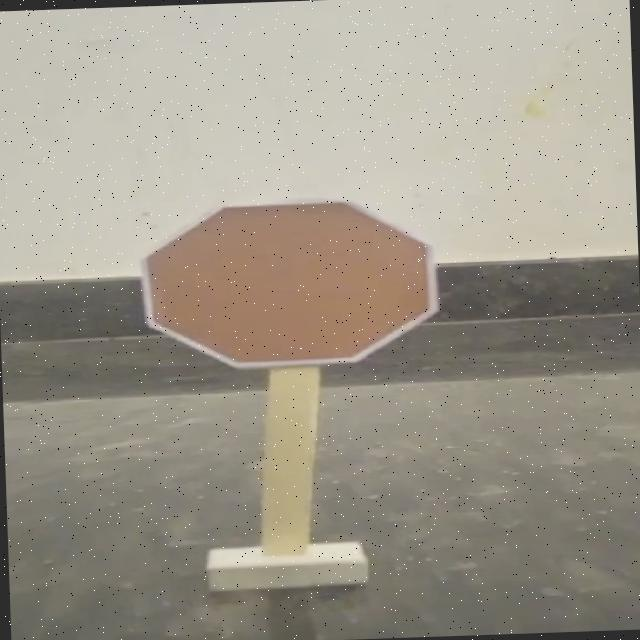Stop: (125, 187, 468, 383)
